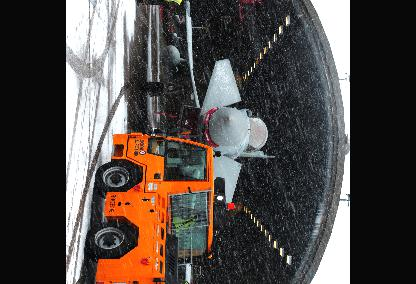E2: (146, 1, 277, 283)
